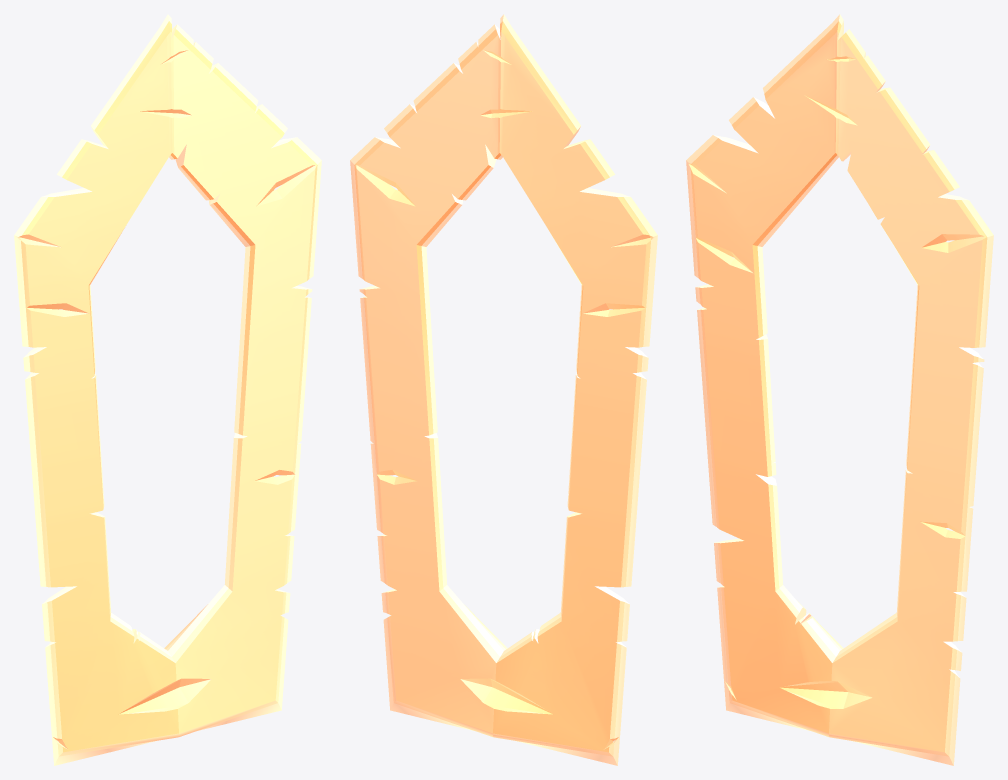
The model's file is wood_blade_scratched_067.glb.
3 renders of one model, left to right at view 1: azimuth 30°, elevation 25°; view 2: azimuth 150°, elevation 25°; view 3: azimuth 330°, elevation 25°, orthographic.
Parts seen in each view (by area): view 1: wood_blade_scratched.067; view 2: wood_blade_scratched.067; view 3: wood_blade_scratched.067.
Boxes of the visible parts, bbox=[...] form: wood_blade_scratched.067: bbox=[14, 14, 321, 765]; wood_blade_scratched.067: bbox=[350, 14, 657, 765]; wood_blade_scratched.067: bbox=[686, 14, 993, 765].
Size of the model in its own units: 5.08 by 11.42 by 0.6326.
1 material, 1 textured.
